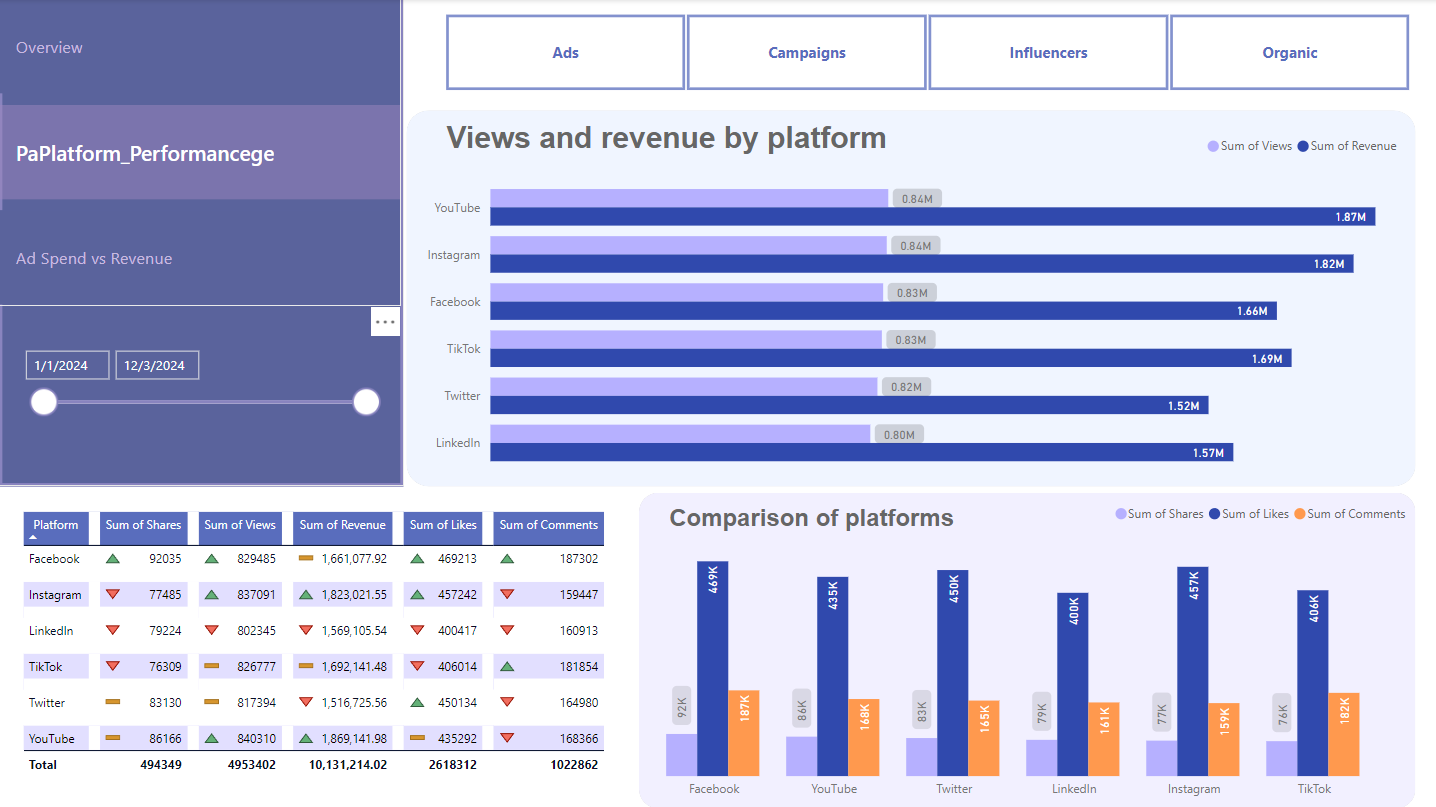

This screenshot's page, from the dashboard's own definition file:
{"tool":"powerbi","page":{"name":"PaPlatform_Performancege ","canvas":[1280,720],"ordinal":1},"visuals":[{"type":"shape","title":"bg","box":[570.4,439.7,691.5,281],"z":0},{"type":"shape","title":"bg","box":[363.1,98.9,898.8,335.1],"z":500,"group":"g1"},{"type":"clusteredBarChart","fields":{"Category":["Social_Media_Data_Task.Platform"],"Y":["Sum(Social_Media_Data_Task.Views)","Sum(Social_Media_Data_Task.Revenue)"]},"box":[371.8,112.6,882.2,321.7],"z":1000,"group":"g1"},{"type":"clusteredColumnChart","fields":{"Category":["Social_Media_Data_Task.Platform"],"Y":["Sum(Social_Media_Data_Task.Shares)","Sum(Social_Media_Data_Task.Likes)","Sum(Social_Media_Data_Task.Comments)"]},"box":[546.4,440,715.5,280],"z":1000},{"type":"tableEx","fields":{"Values":["Social_Media_Data_Task.Platform","Sum(Social_Media_Data_Task.Shares)","Sum(Social_Media_Data_Task.Views)","Sum(Social_Media_Data_Task.Revenue)","Sum(Social_Media_Data_Task.Likes)","Sum(Social_Media_Data_Task.Comments)"]},"box":[15.7,451.4,591.4,257.1],"z":2000},{"type":"shape","box":[0,0,360.3,434.1],"z":3000,"group":"g2"},{"type":"slicer","fields":{"Values":["Social_Media_Data_Task.Category"]},"box":[371.7,6.7,908.3,81.7],"z":3000},{"type":"pageNavigator","box":[0,0,358.3,273.3],"z":4000,"group":"g2"},{"type":"textbox","box":[584.3,445.7,278.6,42.9],"z":5000},{"type":"group","id":"g1","title":"Group 1","box":[363.1,98.9,898.8,335.4],"z":6000},{"type":"group","id":"g2","title":"Group 3","box":[0,0,360.3,434.1],"z":7000},{"type":"textbox","box":[380,103.3,430,44.3],"z":7000,"group":"g1"},{"type":"slicer","fields":{"Values":["Social_Media_Data_Task.Post_Date"]},"box":[11.7,303.3,336.7,88.3],"z":7500}]}

Visuals, with their boxes in screenshot pixels (x1, y1, x2, y2), scaled from the page's 1280x720 canvas onto the 1436x807 screenshot:
"bg" shape: rect(640, 493, 1416, 806)
"bg" shape: rect(407, 111, 1416, 486)
clusteredBarChart - Social_Media_Data_Task.Platform x Sum(Social_Media_Data_Task.Views): rect(417, 126, 1407, 487)
clusteredColumnChart - Social_Media_Data_Task.Platform x Sum(Social_Media_Data_Task.Shares): rect(613, 493, 1416, 806)
tableEx - Social_Media_Data_Task.Platform x Sum(Social_Media_Data_Task.Shares): rect(18, 506, 681, 794)
shape: rect(0, 0, 404, 487)
slicer - Social_Media_Data_Task.Category: rect(417, 8, 1435, 99)
pageNavigator: rect(0, 0, 402, 306)
textbox: rect(656, 500, 968, 548)
"Group 1" group: rect(407, 111, 1416, 487)
"Group 3" group: rect(0, 0, 404, 487)
textbox: rect(426, 116, 909, 165)
slicer - Social_Media_Data_Task.Post_Date: rect(13, 340, 391, 439)
